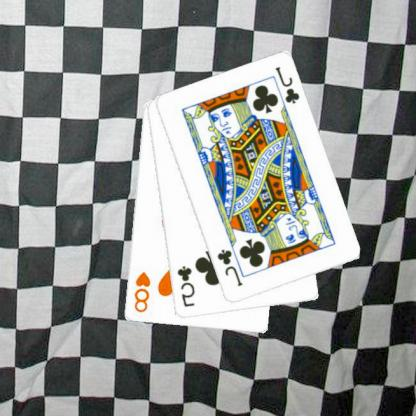5C: (176, 263, 198, 309)
8H: (132, 268, 154, 314)
JC: (273, 64, 303, 106), (216, 247, 245, 288)
